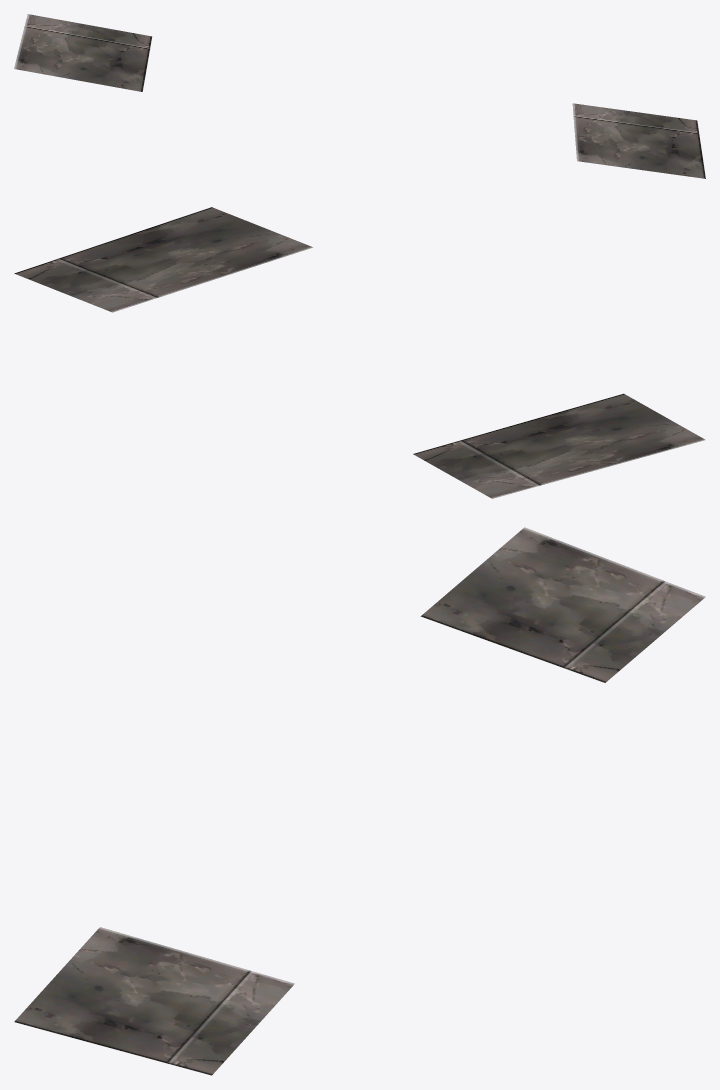
The model's file is CH09_SMAUG_PLAYSURFACE_LAIR138.fbx.
3 renders of one model, top to bottom at view 1: azimuth 30°, elevation 25°; view 2: azimuth 150°, elevation 25°; view 3: azimuth 270°, elevation 25°, orthographic. The views are drawn at different scales.
Parts seen in each view (by area): view 1: CH09_SMAUG_PLAYSURFACE_LAIR138; view 2: CH09_SMAUG_PLAYSURFACE_LAIR138; view 3: CH09_SMAUG_PLAYSURFACE_LAIR138.
Boxes of the visible parts, x1,y1,x2,y2 form: CH09_SMAUG_PLAYSURFACE_LAIR138: [14, 14, 705, 178]; CH09_SMAUG_PLAYSURFACE_LAIR138: [14, 207, 705, 498]; CH09_SMAUG_PLAYSURFACE_LAIR138: [14, 527, 705, 1075].
Size of the model in its own units: 55791 by 10238 by 41460.
1 material, 1 textured.
